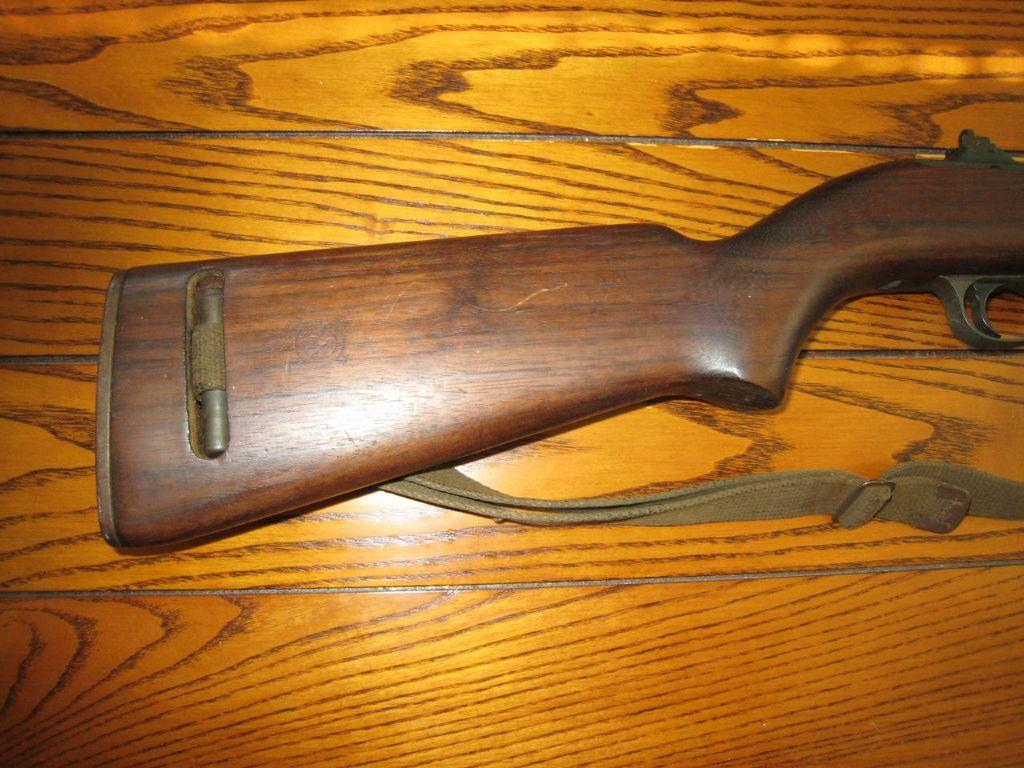Shotgun: (91, 131, 1023, 556)
